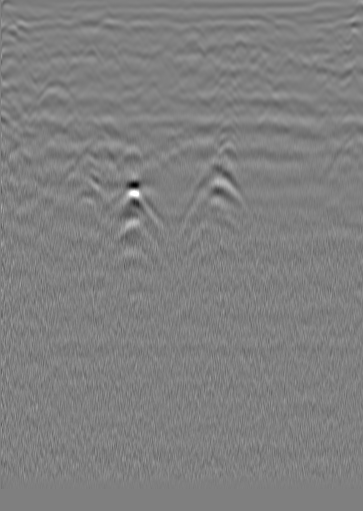가스: (107, 180, 157, 212)
상수: (322, 27, 342, 47)
오수: (30, 29, 50, 49)
우수: (186, 28, 206, 48)
